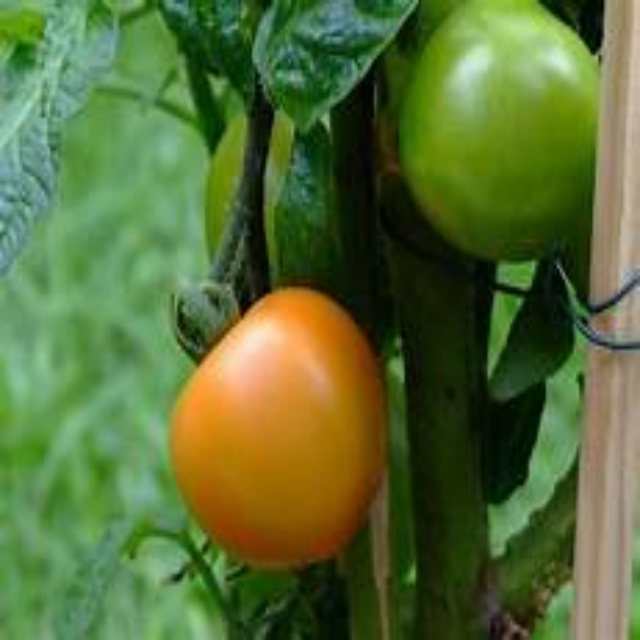tomato: (170, 264, 383, 567), (391, 10, 602, 271)
